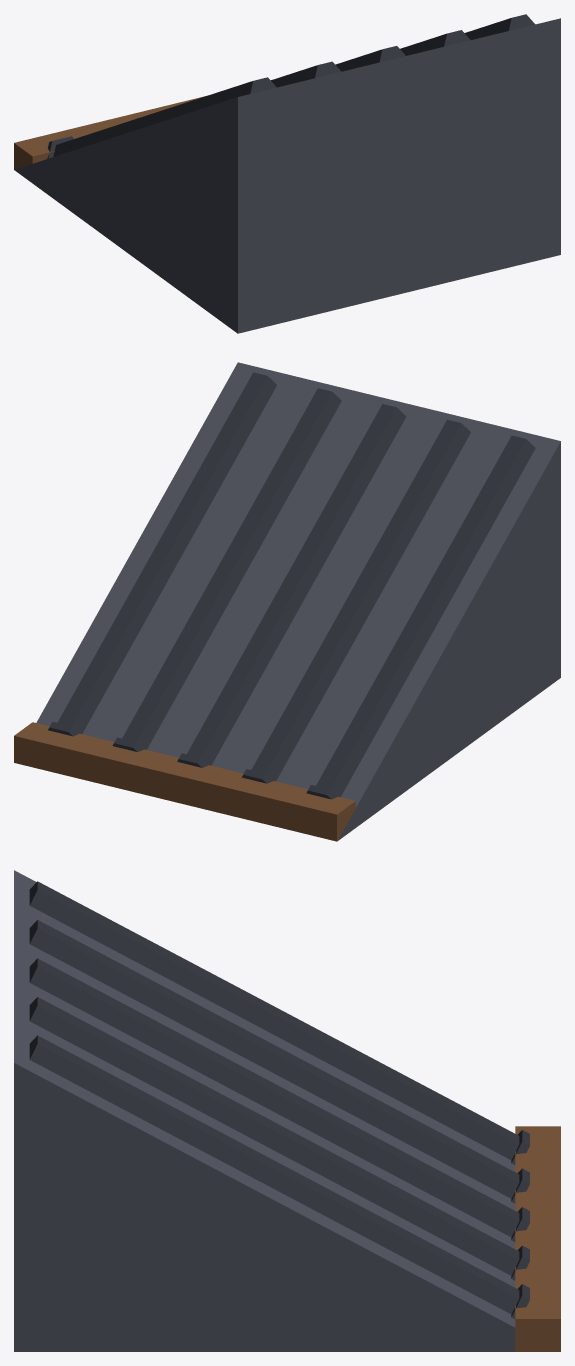
Rendered from sakura_roof_eave_1m.glb.
3 renders of one model, top to bottom at view 1: azimuth 30°, elevation 25°; view 2: azimuth 150°, elevation 25°; view 3: azimuth 270°, elevation 25°, orthographic. The views are drawn at different scales.
Parts seen in each view (by area): view 1: sakura_roof_eave_1m; view 2: sakura_roof_eave_1m; view 3: sakura_roof_eave_1m.
Part boxes in pixels (x1,y1,x2,y2): sakura_roof_eave_1m: (14,14,560,333); sakura_roof_eave_1m: (14,362,560,841); sakura_roof_eave_1m: (14,870,560,1351).
Bounding box in the file's own units: 1 × 0.7092 × 1.2.
Materials: 1 (1 with a texture image).
